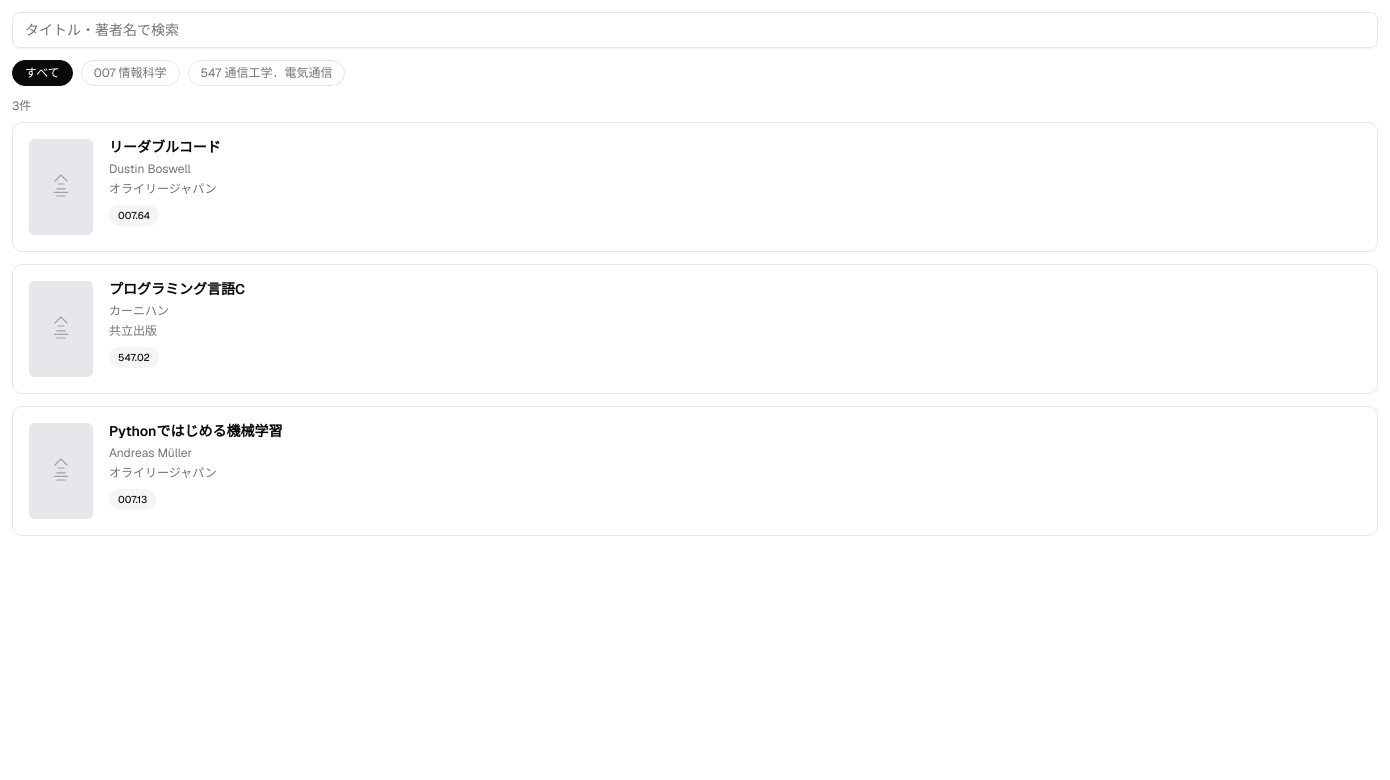
Scenario: BookList › テキスト検索とNDCフィルタを組み合わせて絞り込める
Click the button "007 情報科学": (130, 73) [81, 60, 180, 86]
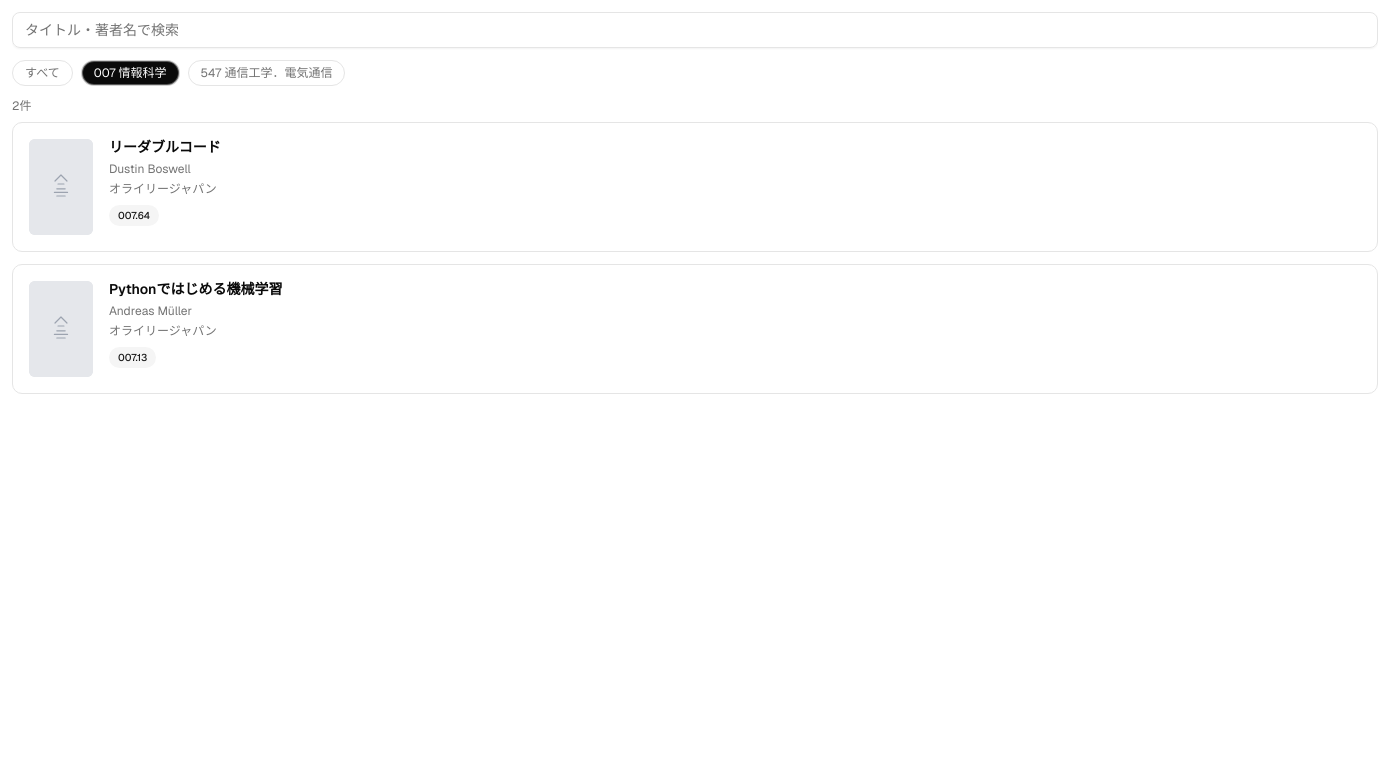
In the field with placeholder "タイトル・著者名で検索": (695, 30) [12, 12, 1378, 48], type "Python"
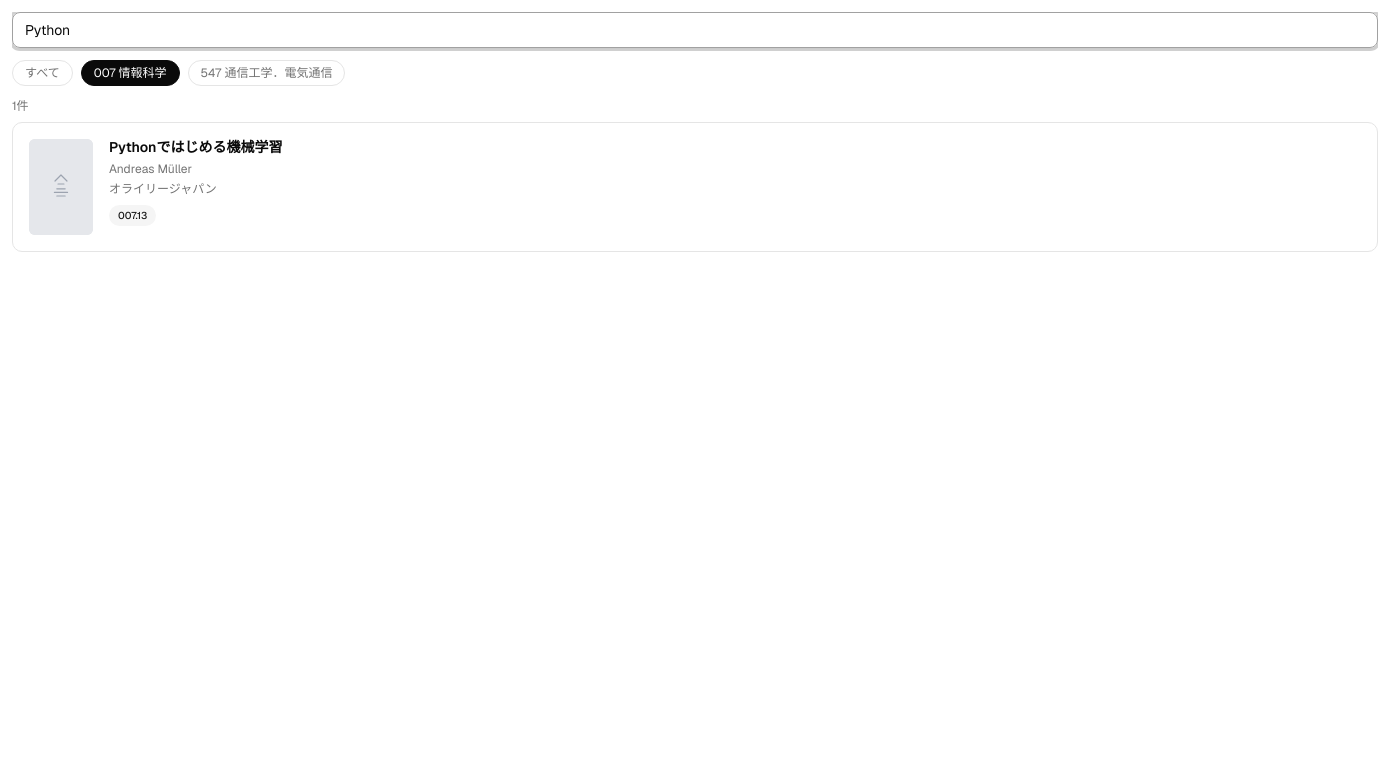
Expected: the text "Pythonではじめる機械学習" is shown, [109, 139, 282, 156]
Expected: the text "リーダブルコード" is gone
